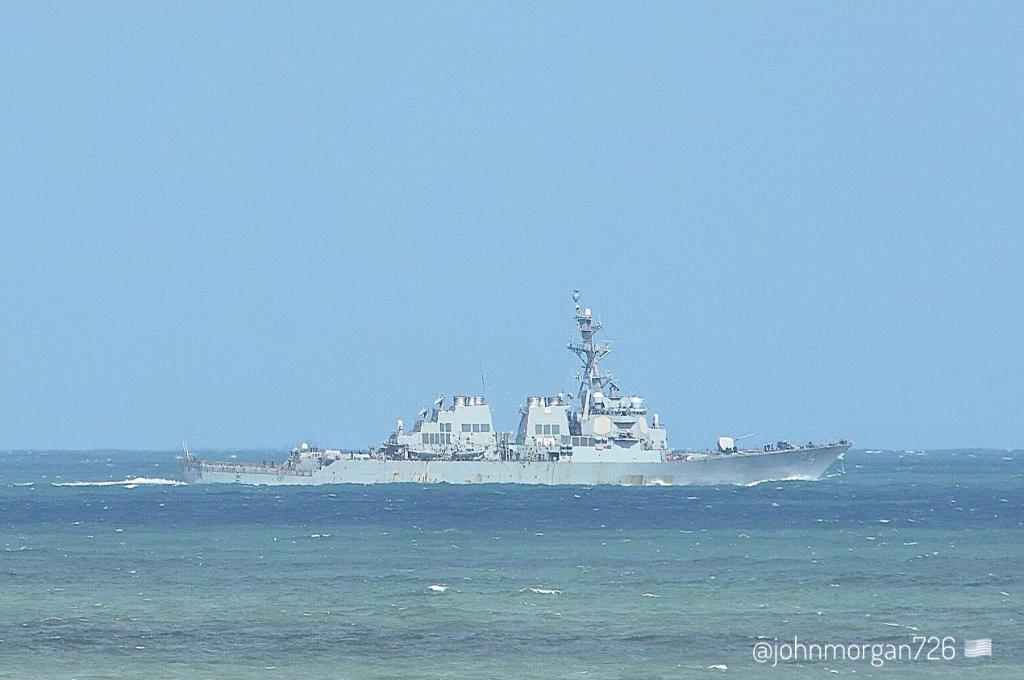Warship: (172, 286, 858, 486)
